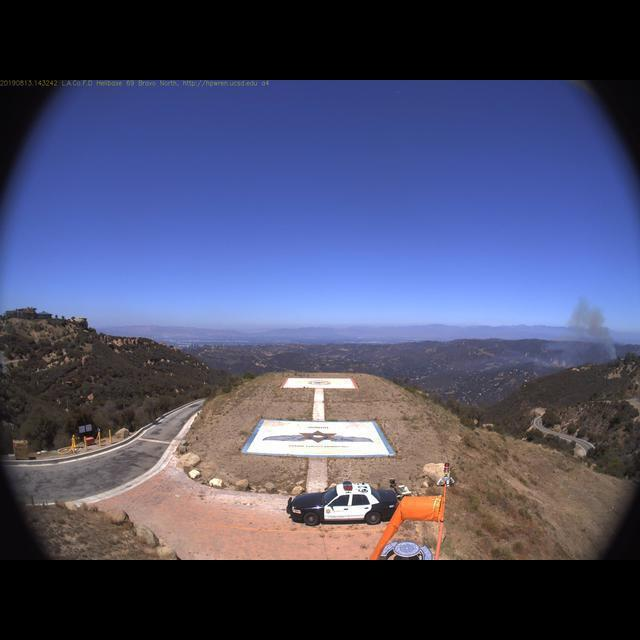Smoke: (553, 294, 622, 371)
